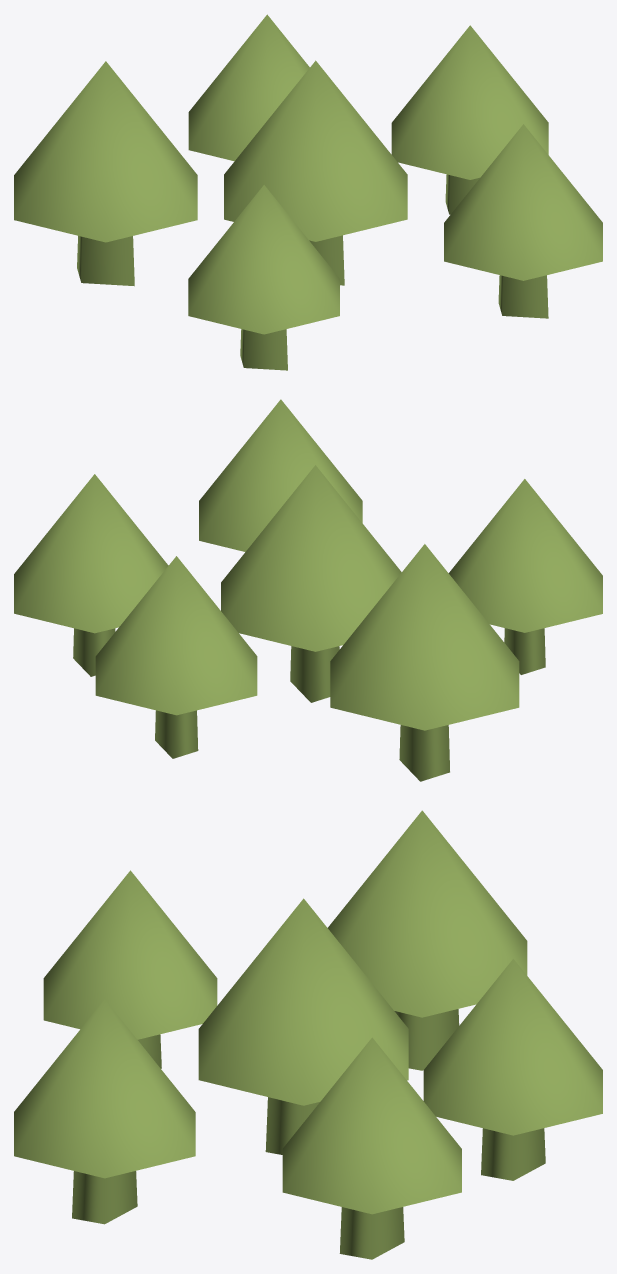
Rendered from env_trees.fbx.
The picture shows the model from 3 angles, top to bottom: view 1: azimuth 30°, elevation 25°; view 2: azimuth 150°, elevation 25°; view 3: azimuth 270°, elevation 25°; orthographic projection. The views are drawn at different scales.
Parts seen in each view (by area): view 1: pCylinder806; view 2: pCylinder806; view 3: pCylinder806.
Part boxes in pixels (x1,y1,x2,y2): pCylinder806: (14,14,602,370); pCylinder806: (14,399,602,781); pCylinder806: (14,810,602,1259).
Bounding box in the file's own units: 16.89 × 6.8 × 14.71.
